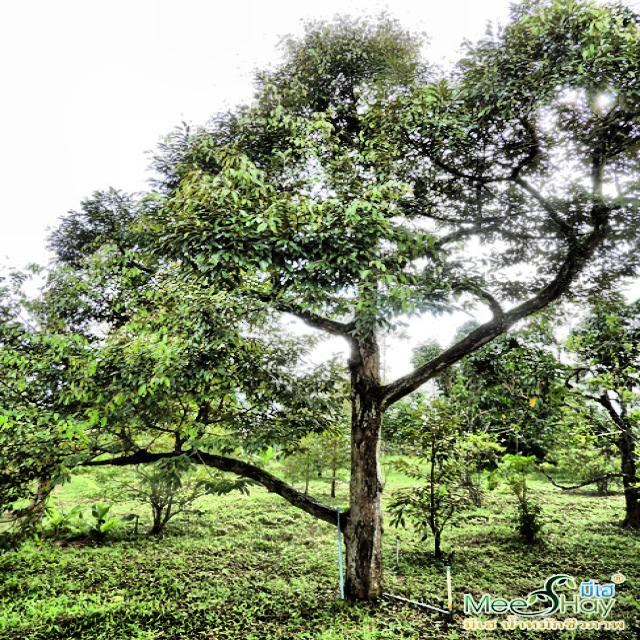arvore: (311, 170, 418, 633)
